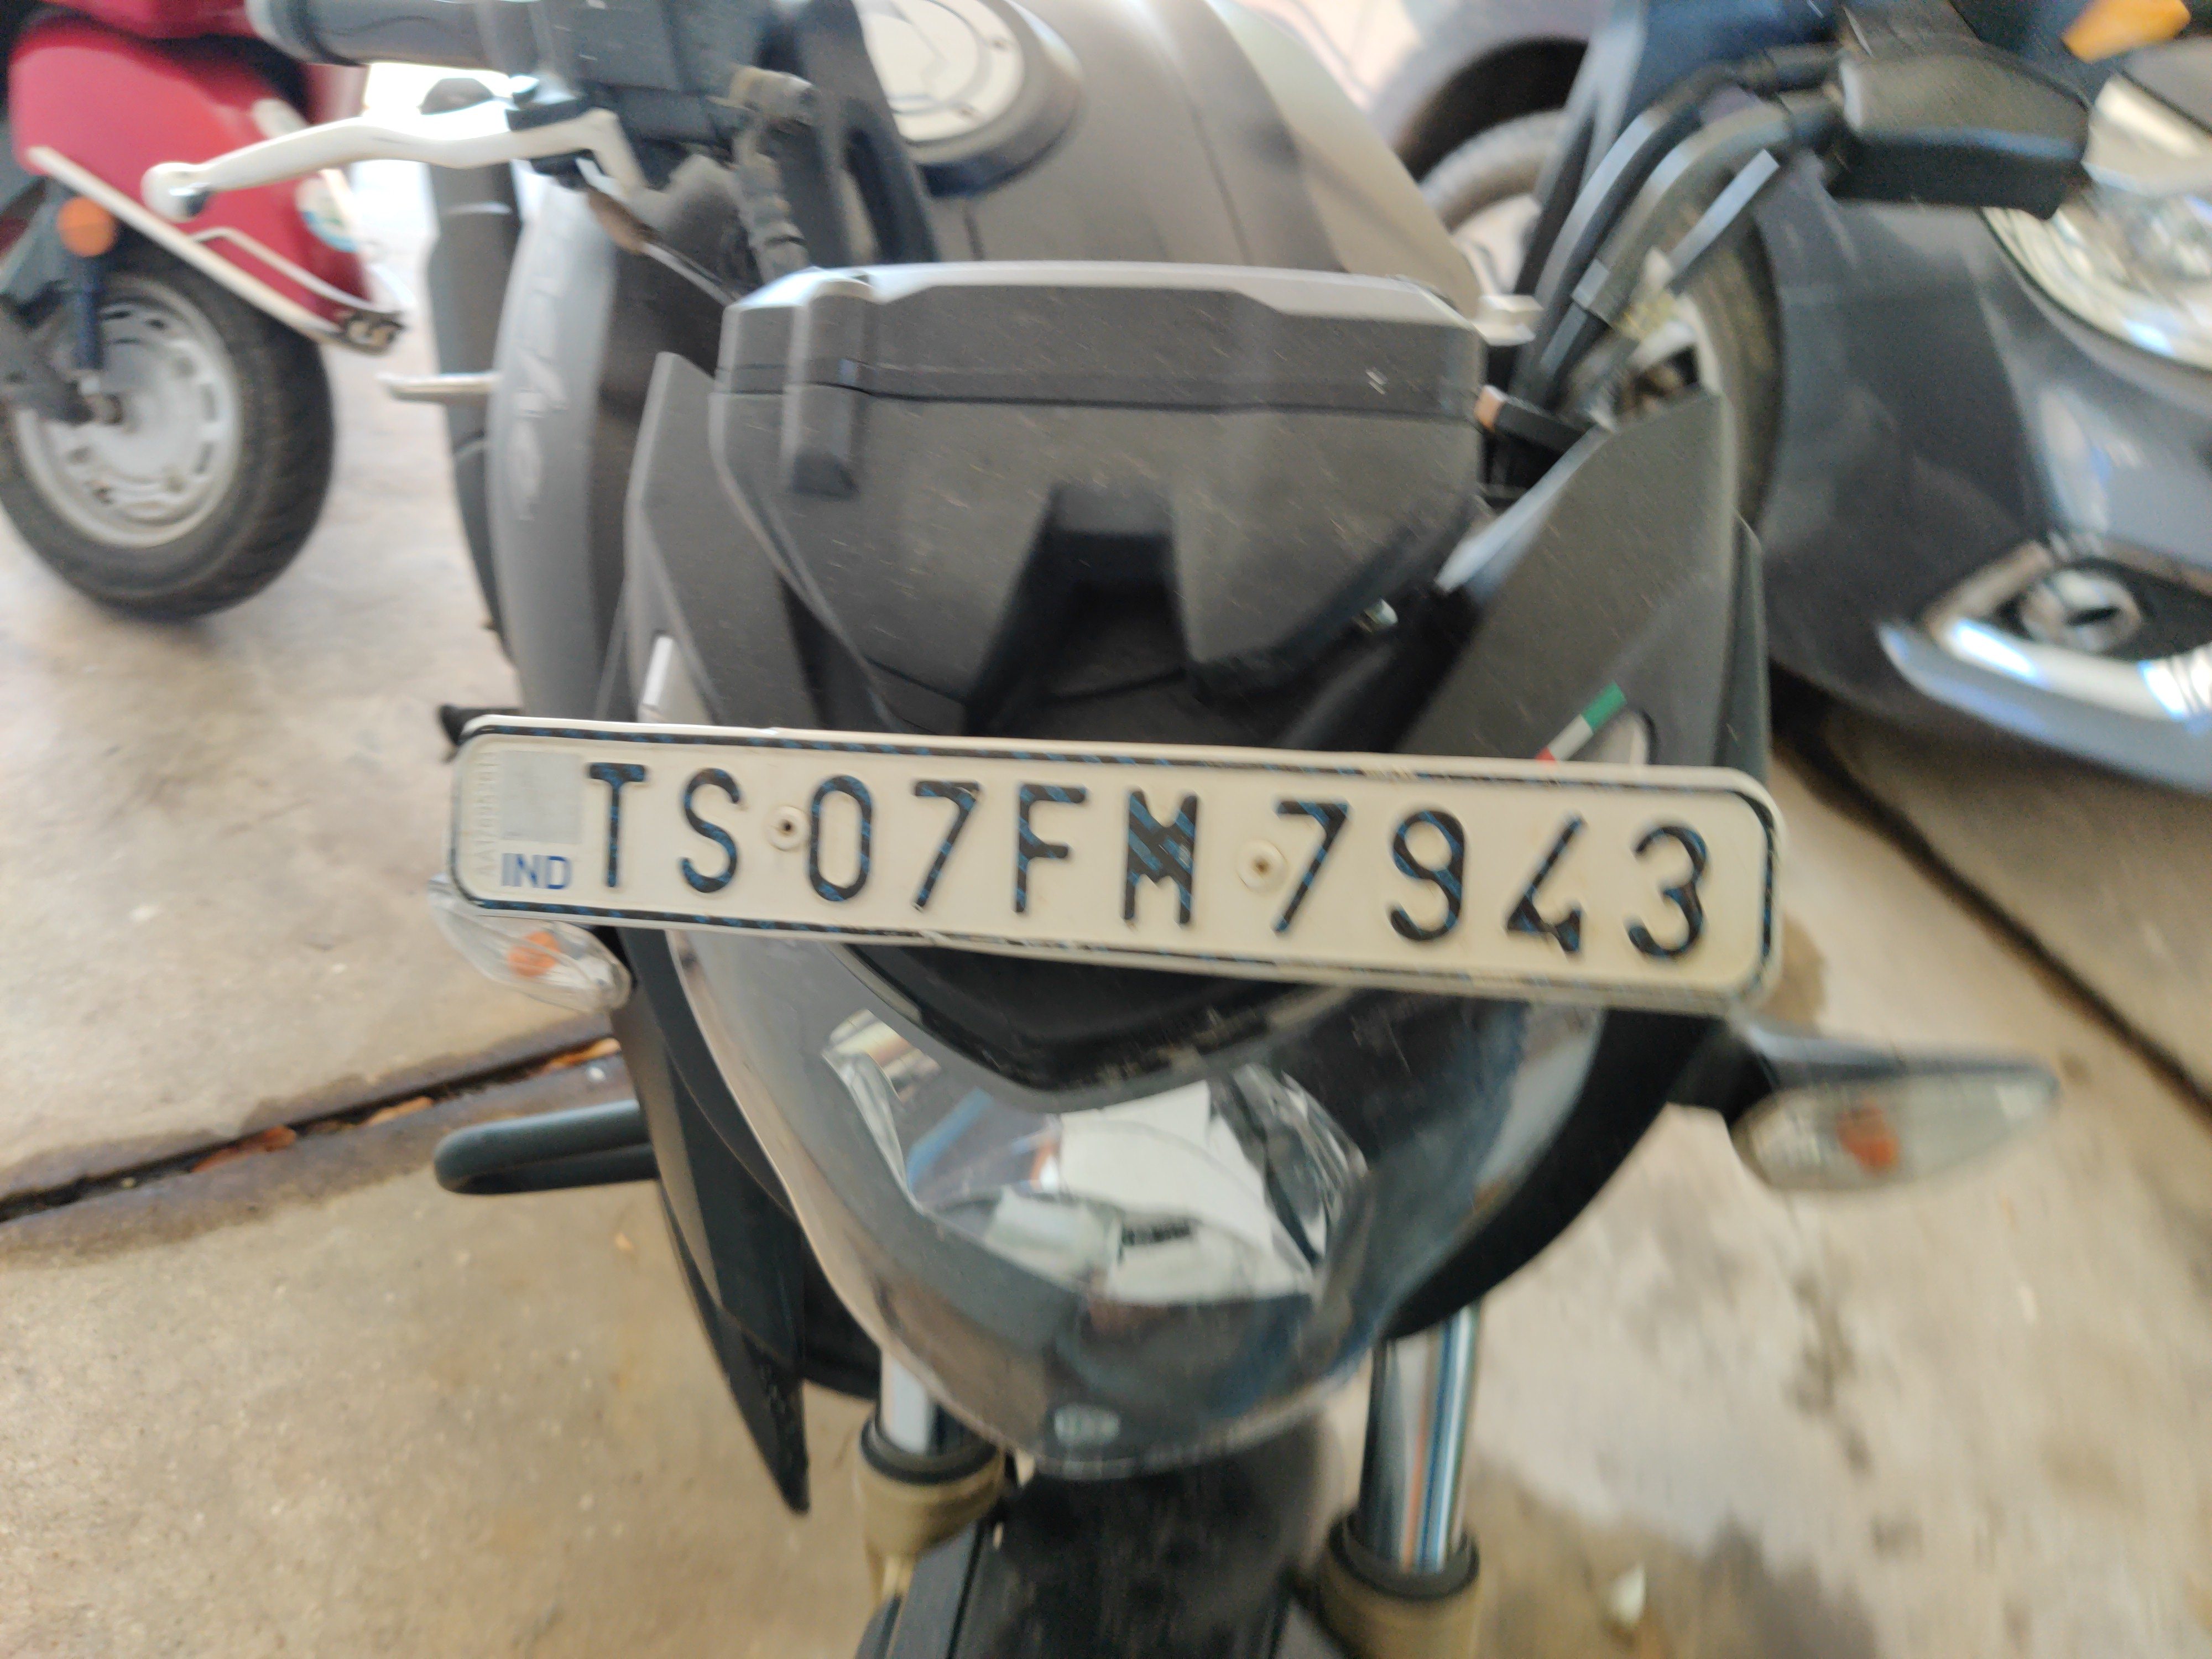plate: (442, 702, 1797, 1030)
